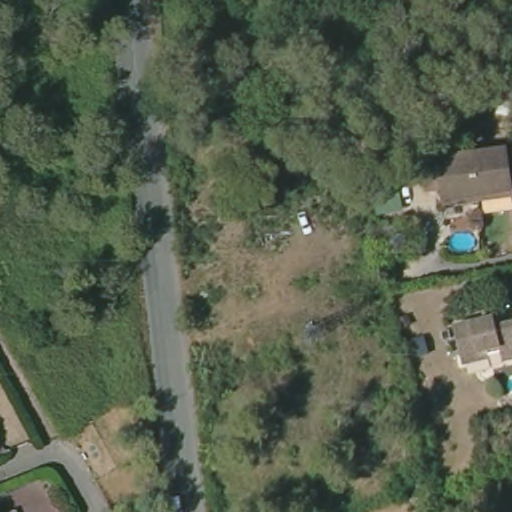pool: (445, 228, 481, 254)
